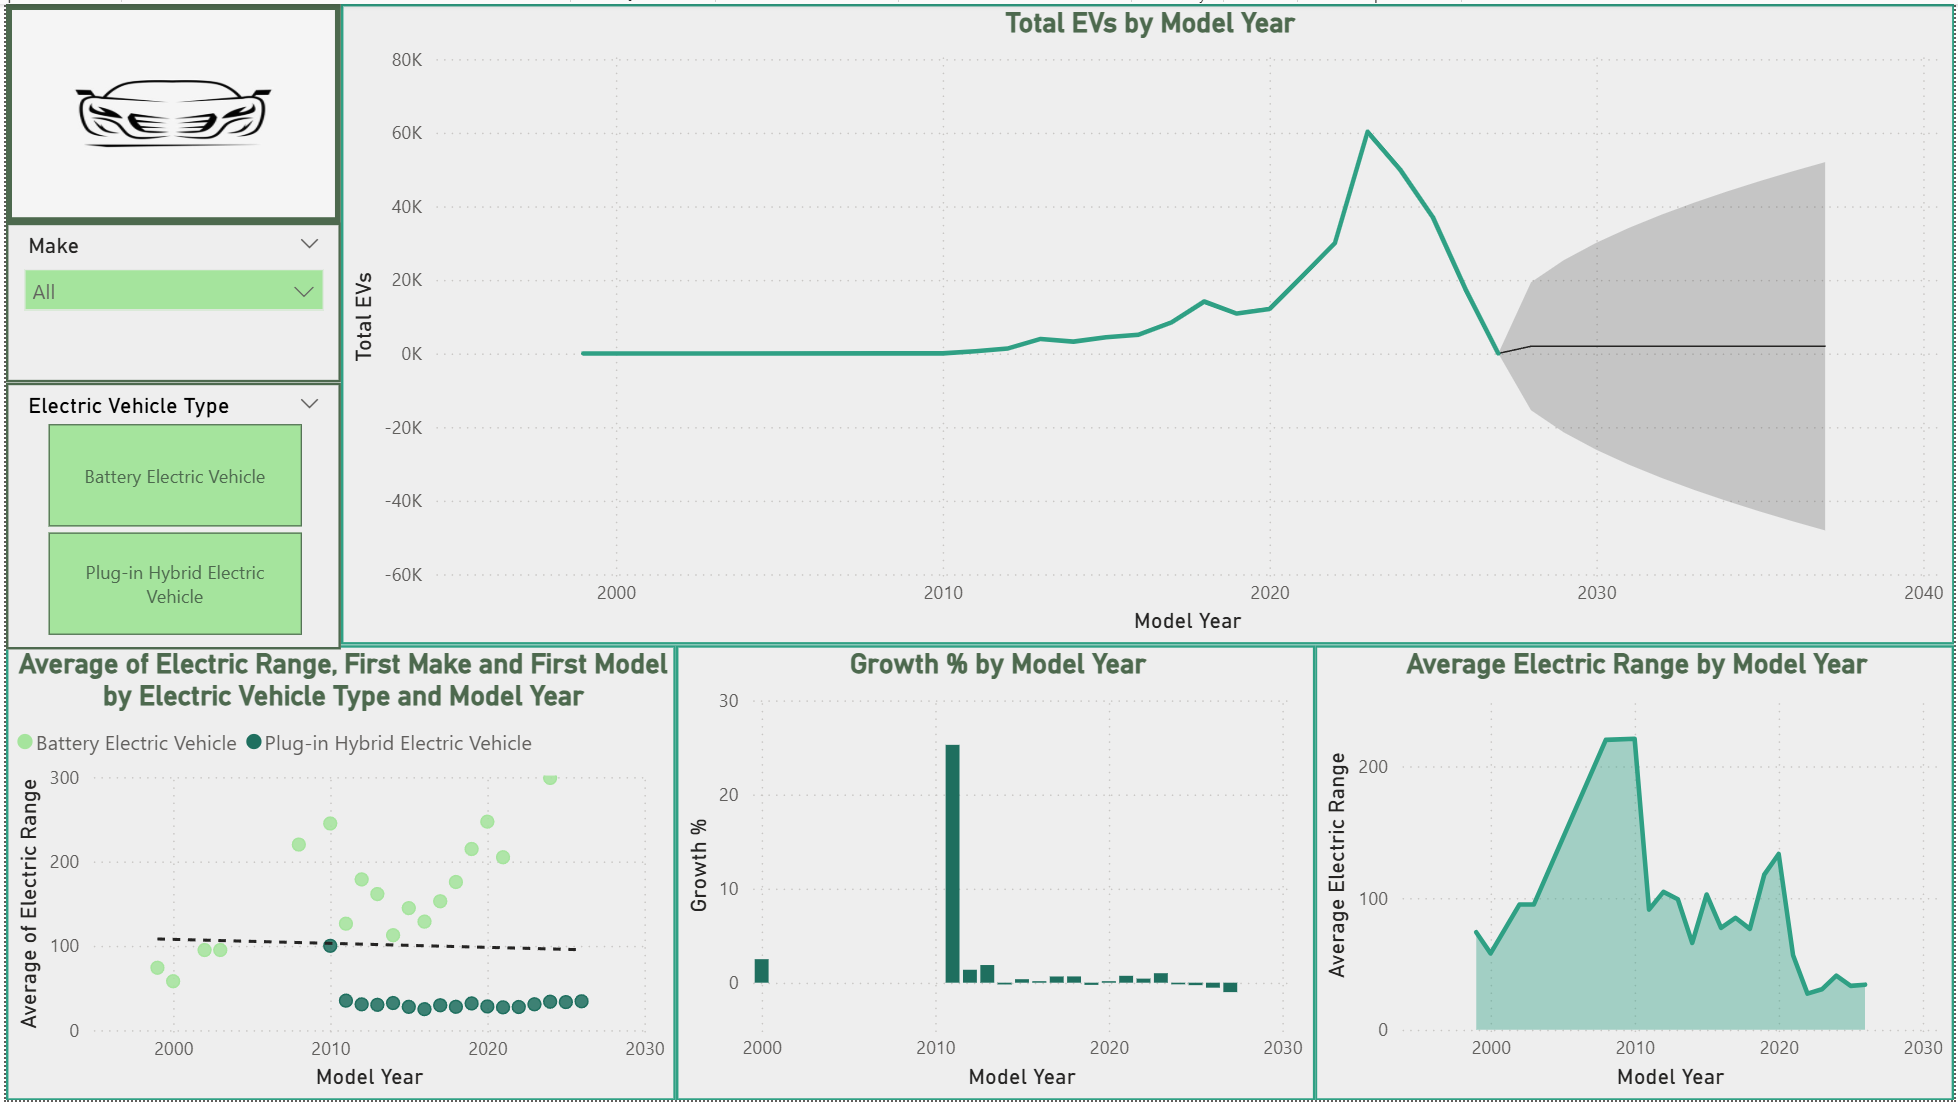

The dashboard page shown, as its layout file describes it:
{"tool":"powerbi","page":{"name":"Duplicate of Forecast","canvas":[1280,720],"ordinal":4},"visuals":[{"type":"lineChart","fields":{"Category":["Vehicle_Dim.Model Year"],"Y":["EV_Fact.Total EVs"]},"box":[220,0,1060,421],"z":0},{"type":"areaChart","fields":{"Category":["Vehicle_Dim.Model Year"],"Y":["Vehicle_Dim.Average Electric Range"]},"box":[860,421,420,299],"z":1000},{"type":"clusteredColumnChart","fields":{"Category":["Vehicle_Dim.Model Year"],"Y":["Vehicle_Dim.Growth %"]},"box":[440,421,420,299],"z":2000},{"type":"scatterChart","fields":{"X":["Vehicle_Dim.Model Year"],"Y":["Avg(Vehicle_Dim.Electric Range)"],"Series":["Type_Dim.Electric Vehicle Type"]},"box":[0,421,440,299],"z":3000},{"type":"slicer","fields":{"Values":["Type_Dim.Electric Vehicle Type"]},"box":[0,249,220,175],"z":4000},{"type":"slicer","fields":{"Values":["Vehicle_Dim.Make"]},"box":[0,144,220,105],"z":5000},{"type":"image","box":[0,0,220,144],"z":6000}]}

Visuals, with their boxes in screenshot pixels (x1, y1, x2, y2), scaled from the page's 1280x720 canvas onto the 1958x1105 screenshot:
lineChart - Vehicle_Dim.Model Year x EV_Fact.Total EVs: x1=337, y1=0, x2=1957, y2=646
areaChart - Vehicle_Dim.Model Year x Vehicle_Dim.Average Electric Range: x1=1316, y1=646, x2=1957, y2=1104
clusteredColumnChart - Vehicle_Dim.Model Year x Vehicle_Dim.Growth %: x1=673, y1=646, x2=1316, y2=1104
scatterChart - Vehicle_Dim.Model Year x Avg(Vehicle_Dim.Electric Range): x1=0, y1=646, x2=673, y2=1104
slicer - Type_Dim.Electric Vehicle Type: x1=0, y1=382, x2=337, y2=651
slicer - Vehicle_Dim.Make: x1=0, y1=221, x2=337, y2=382
image: x1=0, y1=0, x2=337, y2=221
